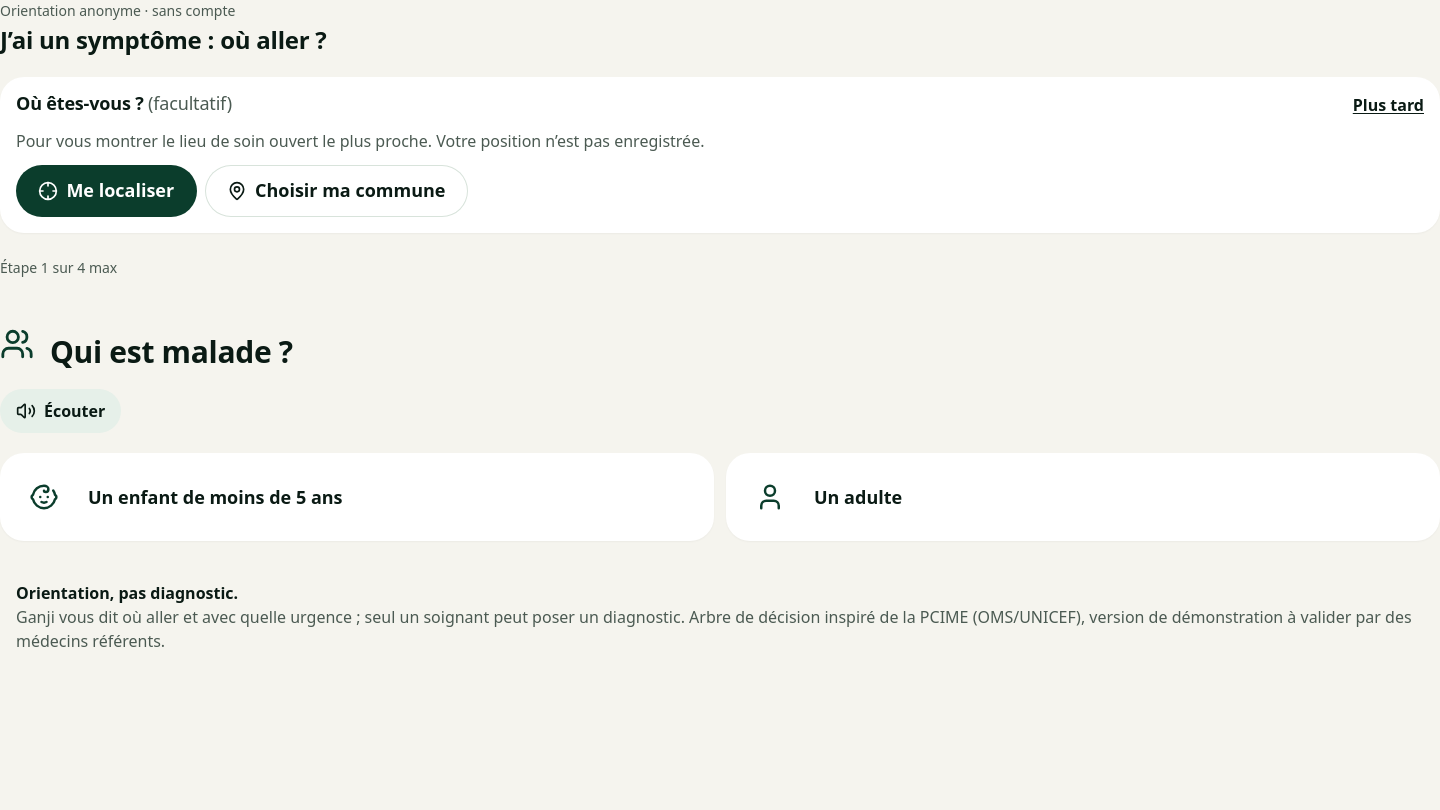
résultat › si l’API ne répond pas, garde le conseil calculé localement et le signale
Click the button "Un adulte" at (858, 497), box [726,454,1439,542]
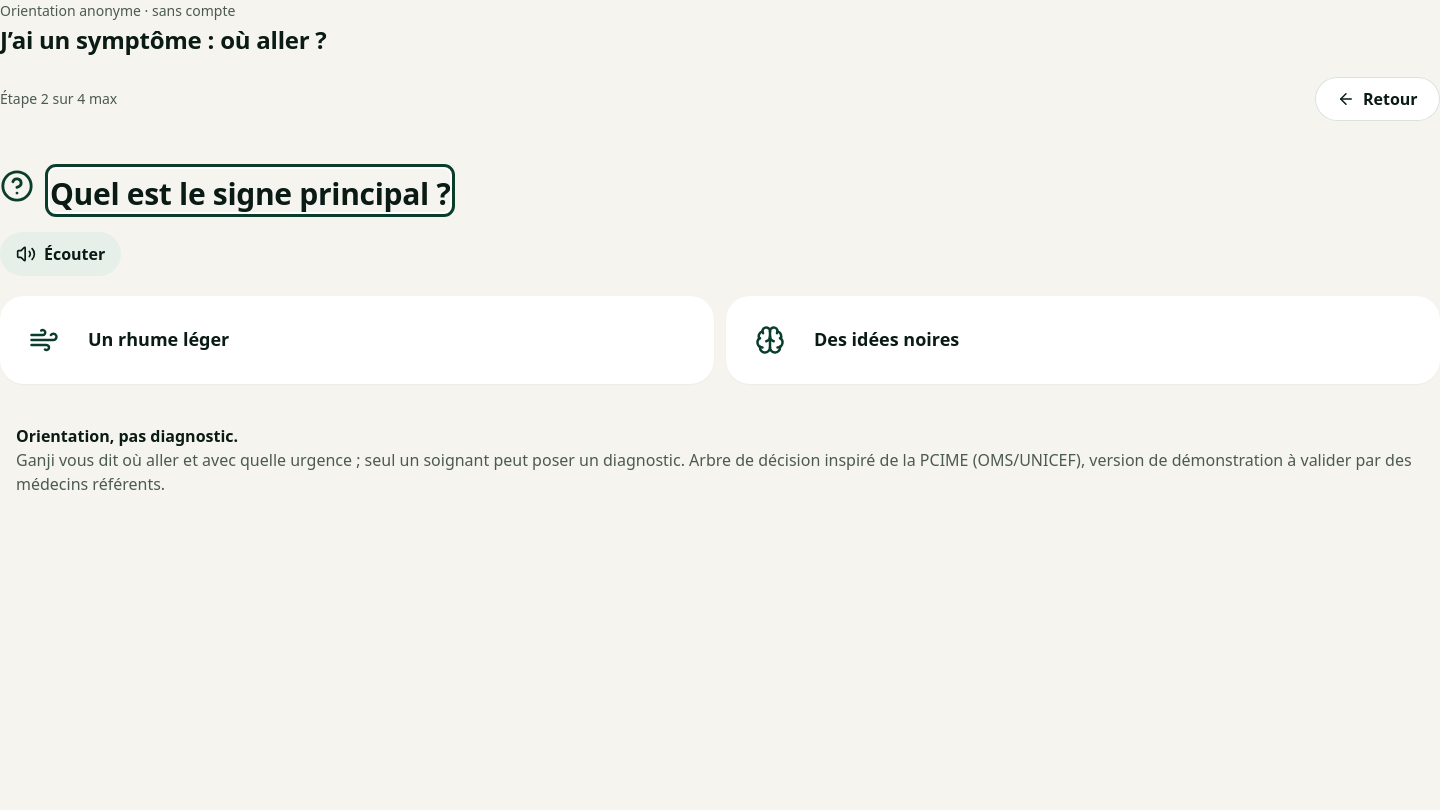
Click the button "Un rhume léger" at (159, 339), box [0,296,714,384]
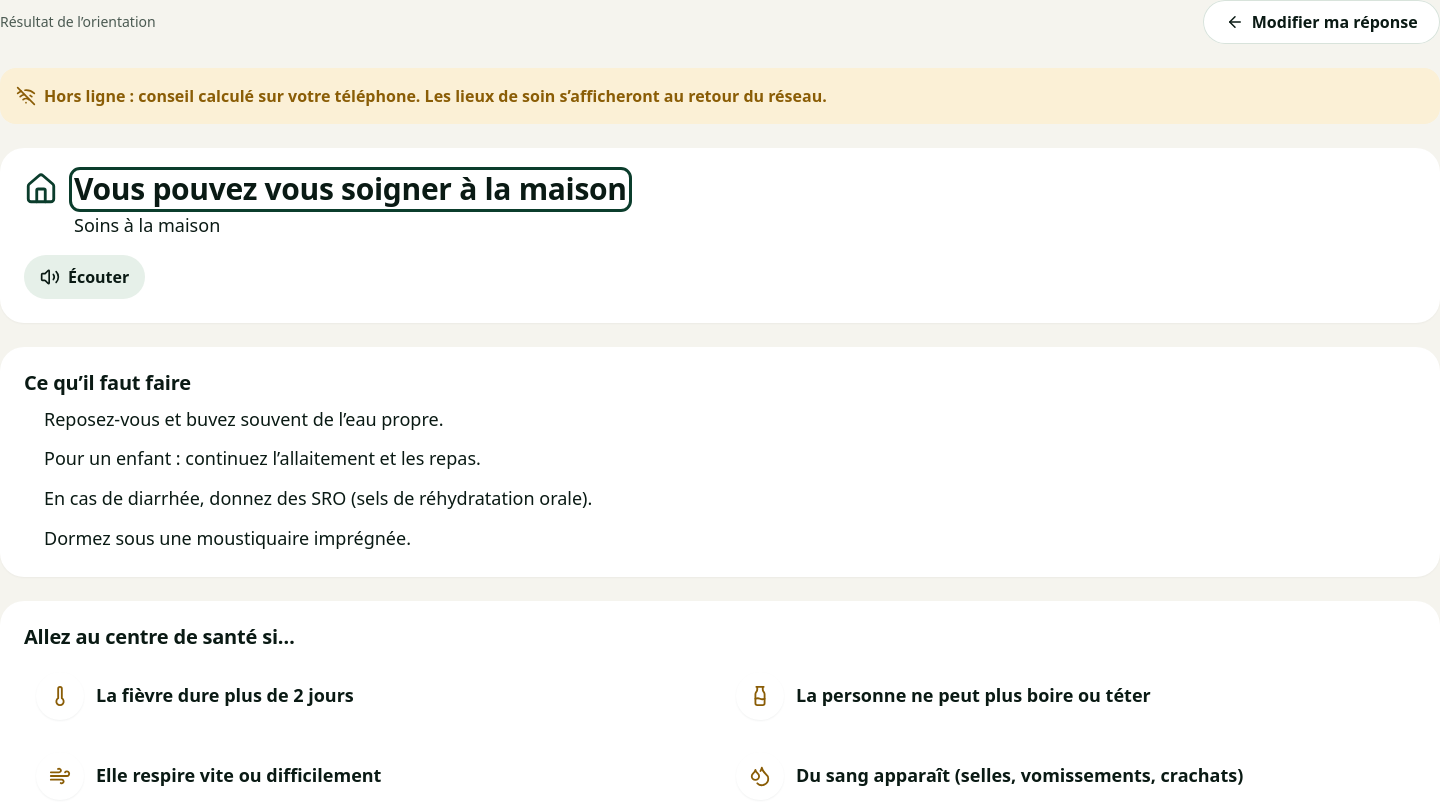
Now the heading "Vous pouvez vous soigner à la maison" is shown, box [74,172,627,206]
Now the text "Hors ligne : conseil calculé sur votre téléphone" is shown, box [44,85,827,107]
Now the heading "Allez au centre de santé si…" is shown, box [24,623,295,650]
